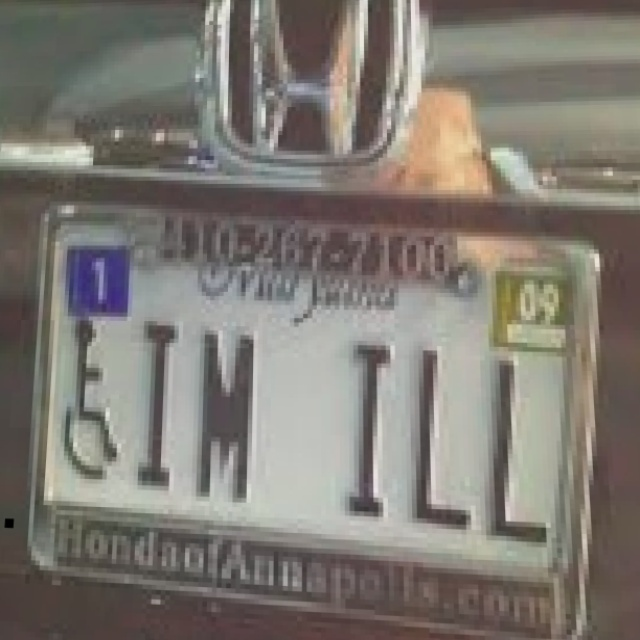ISA: (57, 316, 123, 479)
